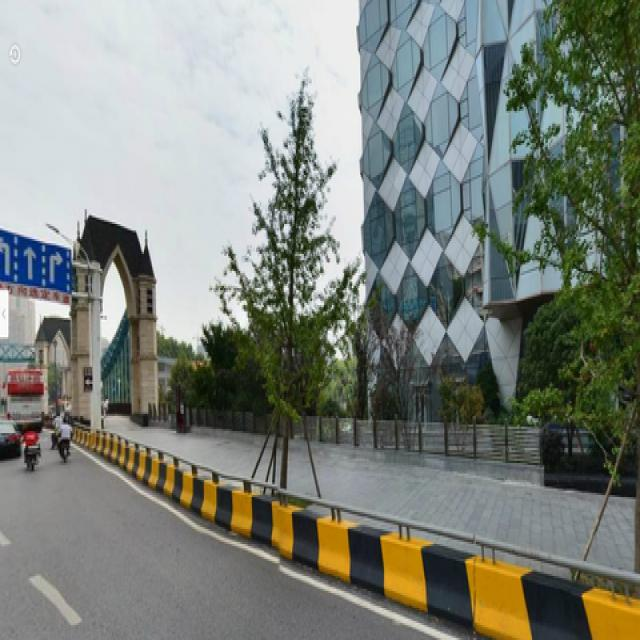gink: (218, 81, 362, 474)
